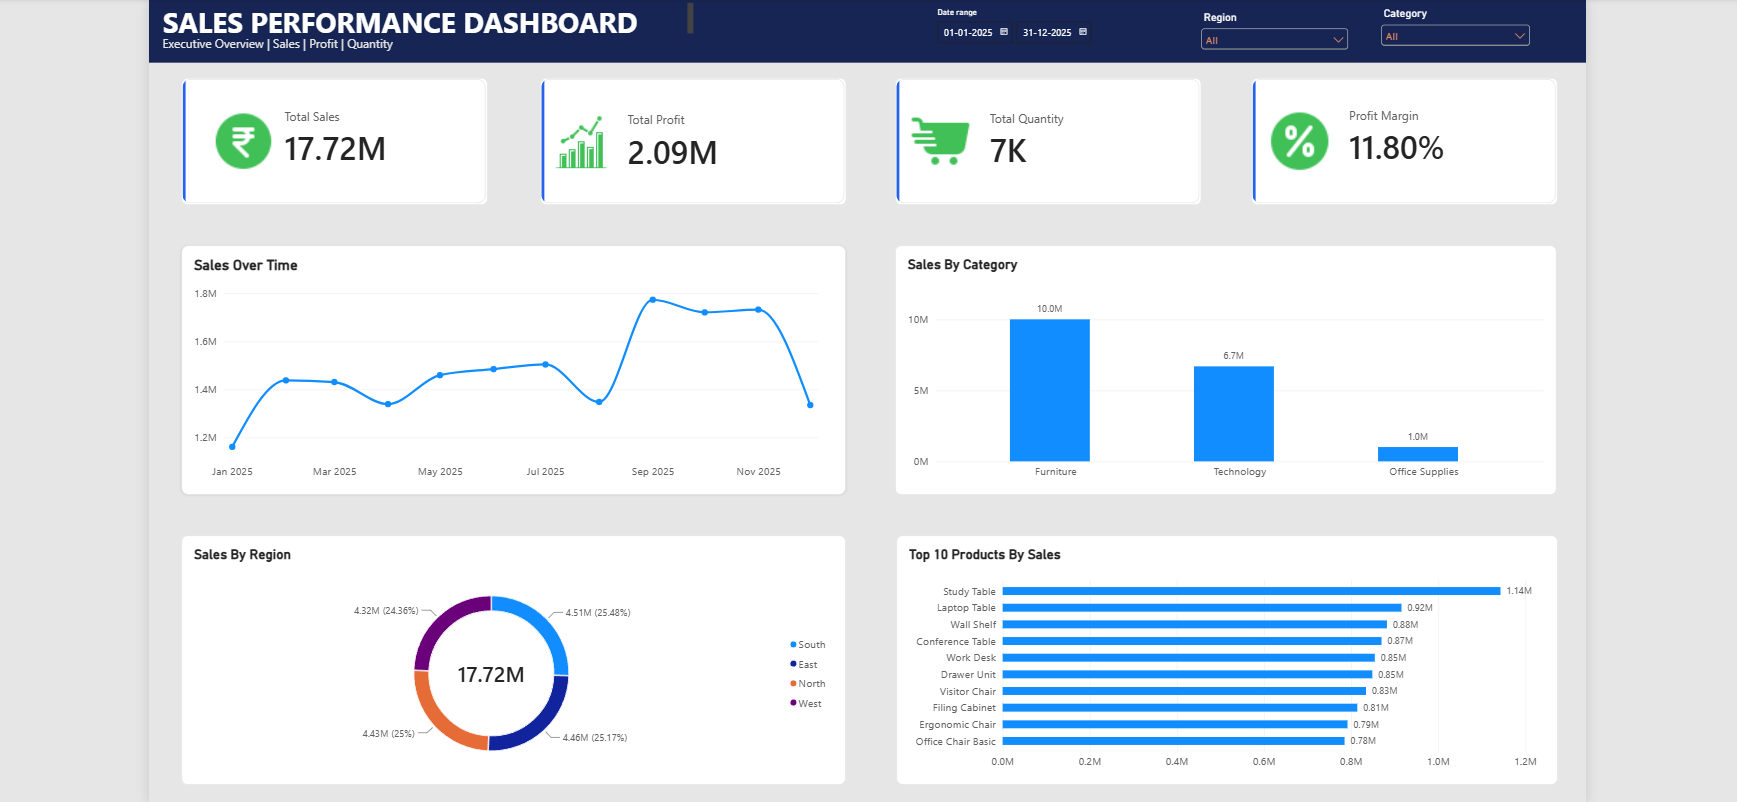

This screenshot's page, from the dashboard's own definition file:
{"tool":"powerbi","page":{"name":"Sales Dashboard","canvas":[1920,1080],"ordinal":0},"visuals":[{"type":"shape","box":[0,0,1919.6,86.5],"z":0},{"type":"textbox","box":[0,0,727,51.5],"z":1000},{"type":"textbox","box":[0,42.3,752.8,44.2],"z":2000},{"type":"cardVisual","fields":{"Data":["Sum(Sales_Data_Cleaned_Final.Sales)"]},"box":[44.2,106.7,408.6,169.3],"z":3000},{"type":"cardVisual","fields":{"Data":["Sum(Sales_Data_Cleaned_Final.Quantity)"]},"box":[997.6,106.7,408.6,169.3],"z":4000},{"type":"cardVisual","fields":{"Data":["Sum(Sales_Data_Cleaned_Final.Profit)"]},"box":[522.7,106.7,408.6,169.3],"z":5000},{"type":"cardVisual","fields":{"Data":["Sales_Data_Cleaned_Final.Profit Margin"]},"box":[1472.4,106.7,408.6,169.3],"z":6000},{"type":"lineChart","title":"Sales Over Time","fields":{"Y":["Sum(Sales_Data_Cleaned_Final.Sales)"],"Category":["Sales_Data_Cleaned_Final.Order_Date.Variation.Date Hierarchy.Year","Sales_Data_Cleaned_Final.Order_Date.Variation.Date Hierarchy.Quarter","Sales_Data_Cleaned_Final.Order_Date.Variation.Date Hierarchy.Month","Sales_Data_Cleaned_Final.Order_Date.Variation.Date Hierarchy.Day"]},"box":[44.2,331.3,887.1,333.1],"z":7000},{"type":"clusteredColumnChart","title":"Sales By Category","fields":{"Category":["Sales_Data_Cleaned_Final.Category"],"Y":["Sum(Sales_Data_Cleaned_Final.Sales)"]},"box":[997.6,331.3,883.4,333.1],"z":8000},{"type":"donutChart","title":"Sales By Region","fields":{"Category":["Sales_Data_Cleaned_Final.Region"],"Y":["Sum(Sales_Data_Cleaned_Final.Sales)"]},"box":[44.2,717.8,887.1,333.1],"z":9000},{"type":"clusteredBarChart","title":"Top 10 Products By Sales","fields":{"Category":["Sales_Data_Cleaned_Final.Product_Name"],"Y":["Sum(Sales_Data_Cleaned_Final.Sales)"]},"box":[998,718,883,333],"z":10000},{"type":"slicer","fields":{"Values":["Sales_Data_Cleaned_Final.Region"]},"box":[1400.6,16.6,206.1,69.9],"z":11000},{"type":"slicer","fields":{"Values":["Sales_Data_Cleaned_Final.Category"]},"box":[1641.7,11,208,64.4],"z":12000},{"type":"slicer","title":"Date Range","fields":{"Values":["Sales_Data_Cleaned_Final.Order_Date"]},"box":[1045.4,11,296.3,64.4],"z":13000}]}

Visuals, with their boxes on the page's 1920x1080 design canvas (x1, y1, x2, y2). These are canvas units, not pixel positions in the 1737x802 screenshot, which may show the page scaled, cropped or inside an application window:
shape: (x1=0, y1=0, x2=1920, y2=86)
textbox: (x1=0, y1=0, x2=727, y2=52)
textbox: (x1=0, y1=42, x2=753, y2=86)
cardVisual - Sum(Sales_Data_Cleaned_Final.Sales): (x1=44, y1=107, x2=453, y2=276)
cardVisual - Sum(Sales_Data_Cleaned_Final.Quantity): (x1=998, y1=107, x2=1406, y2=276)
cardVisual - Sum(Sales_Data_Cleaned_Final.Profit): (x1=523, y1=107, x2=931, y2=276)
cardVisual - Sales_Data_Cleaned_Final.Profit Margin: (x1=1472, y1=107, x2=1881, y2=276)
"Sales Over Time" lineChart: (x1=44, y1=331, x2=931, y2=664)
"Sales By Category" clusteredColumnChart: (x1=998, y1=331, x2=1881, y2=664)
"Sales By Region" donutChart: (x1=44, y1=718, x2=931, y2=1051)
"Top 10 Products By Sales" clusteredBarChart: (x1=998, y1=718, x2=1881, y2=1051)
slicer - Sales_Data_Cleaned_Final.Region: (x1=1401, y1=17, x2=1607, y2=86)
slicer - Sales_Data_Cleaned_Final.Category: (x1=1642, y1=11, x2=1850, y2=75)
"Date Range" slicer: (x1=1045, y1=11, x2=1342, y2=75)
